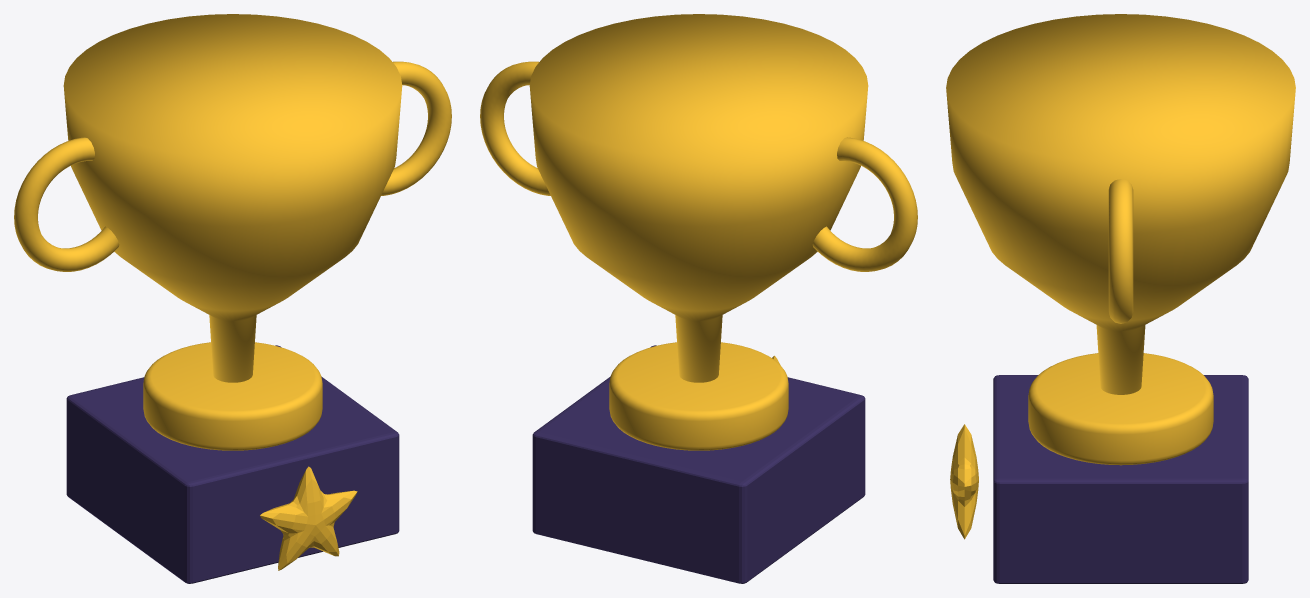
The model's file is trofeu.glb.
3 views of the same model, side by side, from view 1: azimuth 30°, elevation 25°; view 2: azimuth 150°, elevation 25°; view 3: azimuth 270°, elevation 25° (orthographic). The views are drawn at different scales.
Visible parts, largest first — view 1: taca, pedestal, pe, Torus, estrela_frente, Torus.001; view 2: taca, pedestal, pe, Torus, Torus.001; view 3: taca, pedestal, pe, Torus.001, estrela_frente.
Part boxes in pixels (bbox=[...]): taca: bbox=[63, 14, 402, 382]; pedestal: bbox=[66, 345, 399, 583]; pe: bbox=[143, 342, 322, 450]; Torus: bbox=[14, 137, 119, 271]; estrela_frente: bbox=[260, 466, 357, 570]; Torus.001: bbox=[381, 61, 451, 195]; taca: bbox=[529, 14, 868, 382]; pedestal: bbox=[532, 345, 865, 583]; pe: bbox=[609, 342, 788, 450]; Torus: bbox=[812, 137, 917, 271]; Torus.001: bbox=[480, 61, 550, 195]; taca: bbox=[946, 14, 1295, 394]; pedestal: bbox=[993, 375, 1248, 583]; pe: bbox=[1028, 353, 1213, 465]; Torus.001: bbox=[1108, 179, 1133, 323]; estrela_frente: bbox=[950, 424, 978, 539].
Size of the model in its own units: 2.52 by 2.38 by 1.7.
